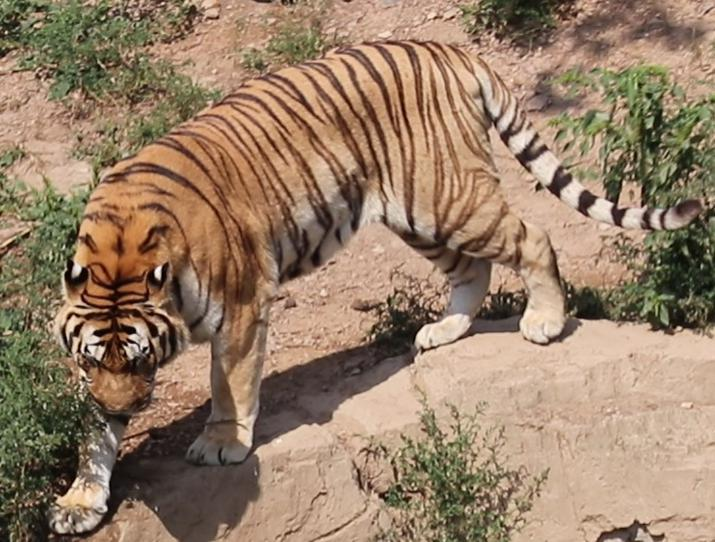tiger: (49, 41, 702, 533)
